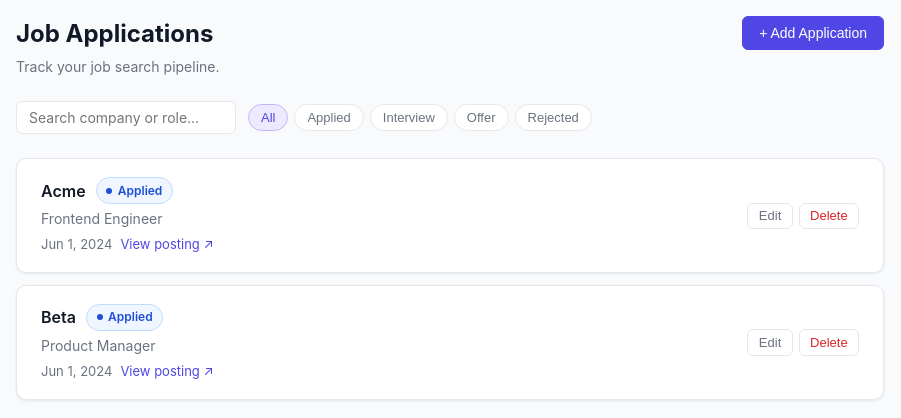
ApplicationListView › filters by role search
Type "frontend" into the search field with placeholder "Search company or role…" at [126, 118], box [16,101,236,134]
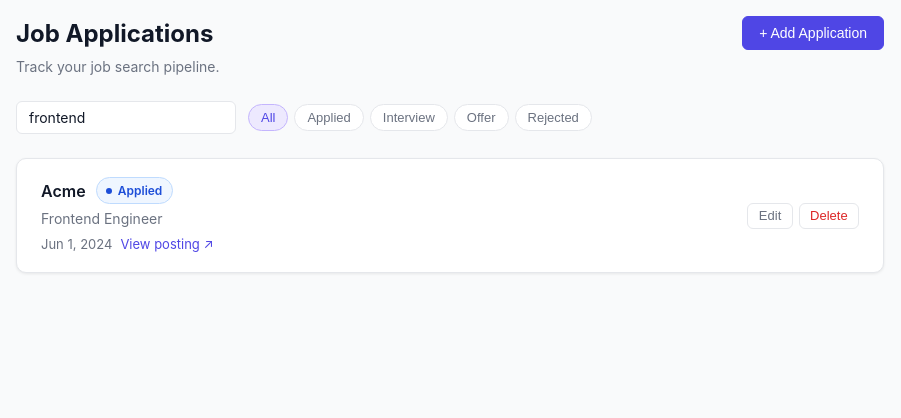
Expected: the text "Frontend Engineer" is shown, [41,210,162,227]
Result: the text "Product Manager" is gone
